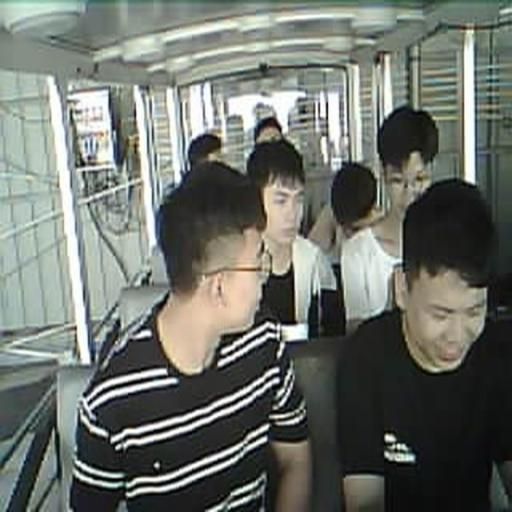persona: (68, 159, 314, 511), (334, 176, 512, 510), (340, 104, 440, 335), (246, 136, 338, 342), (328, 162, 386, 268), (188, 132, 224, 169), (253, 117, 283, 148)
